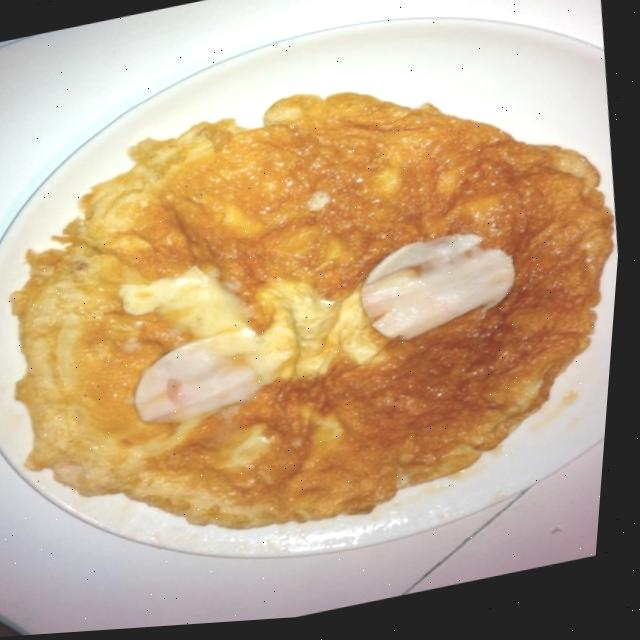面包点心: (0, 34, 636, 587)
